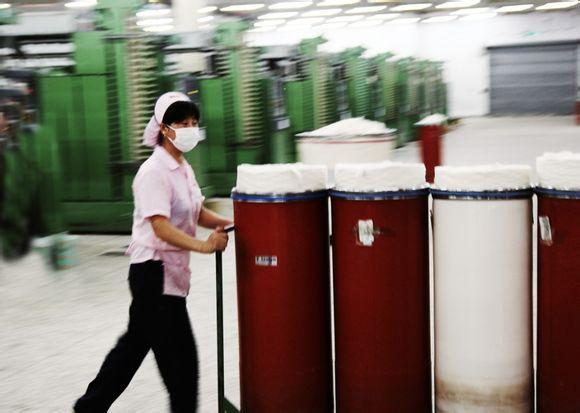OK: (167, 112, 206, 151)
